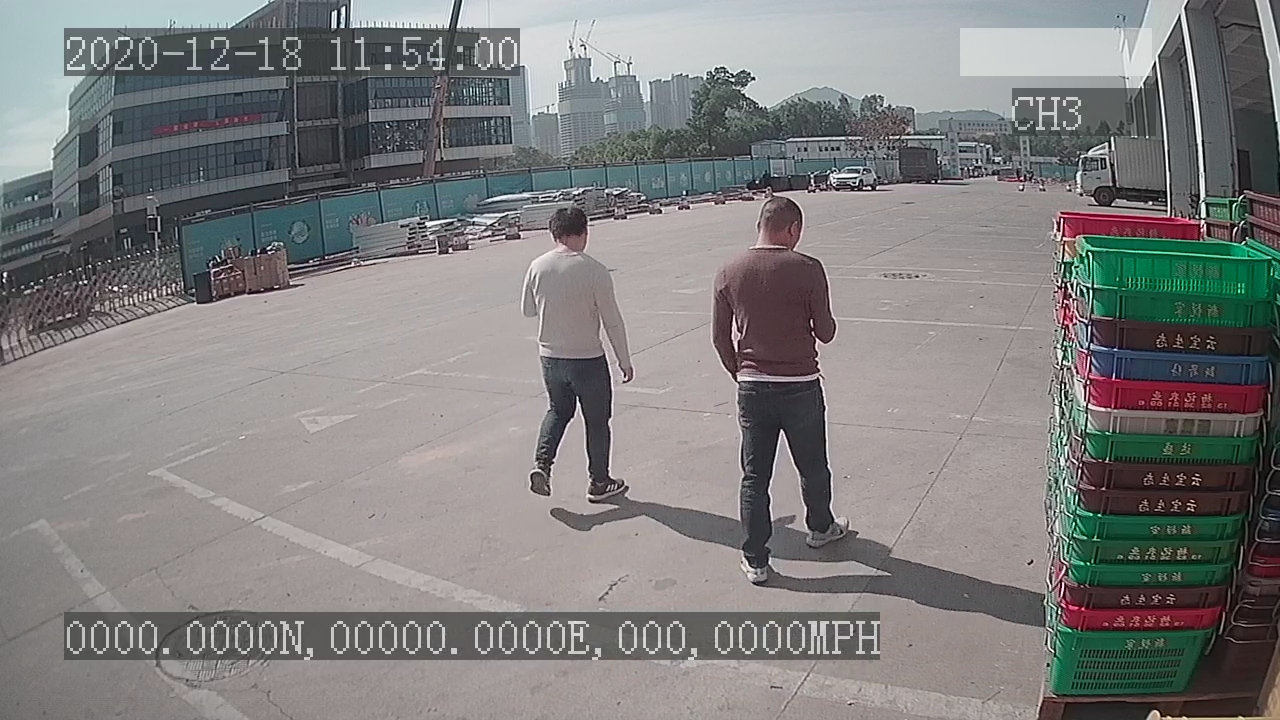person: (699, 188, 859, 586), (511, 204, 642, 510)
